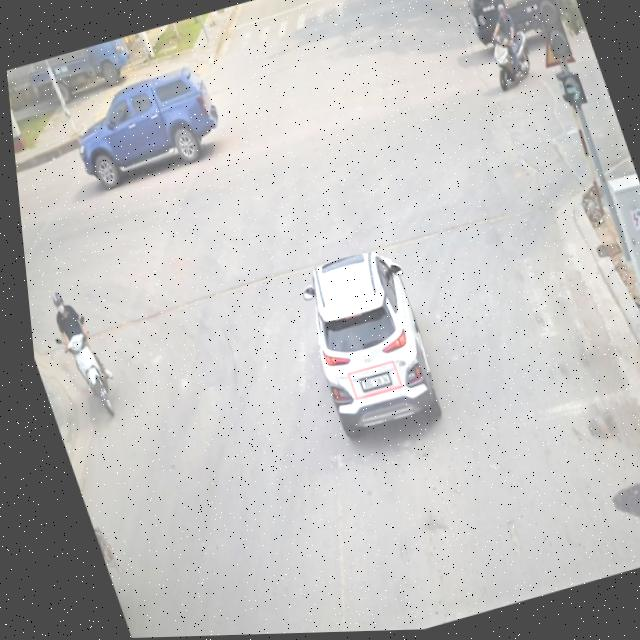Red: (514, 0, 573, 63)
